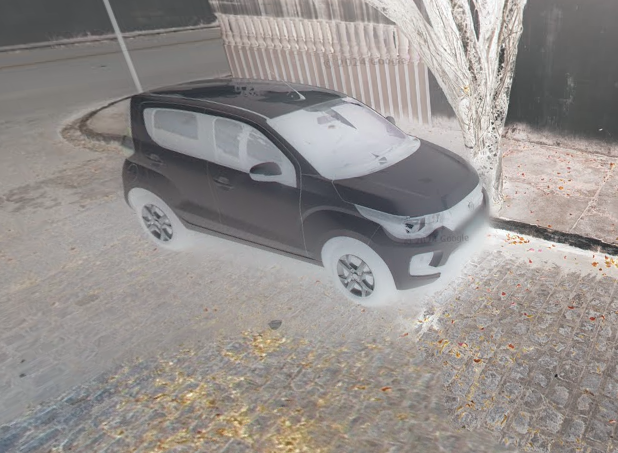car: (118, 70, 491, 307)
